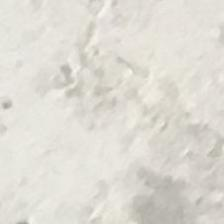Non_Crack: (27, 34, 196, 194)
